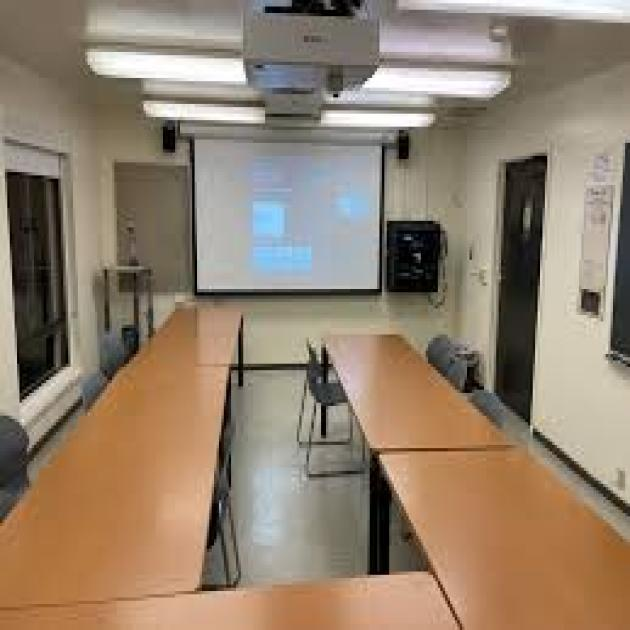desk: (323, 330, 620, 630)
projector: (150, 110, 426, 323), (204, 0, 474, 120)
